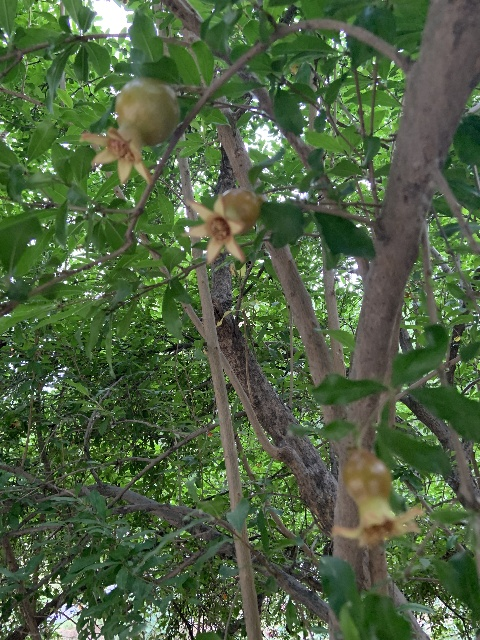early-fruit: (332, 449, 424, 548), (186, 189, 261, 264)
mid-growth: (80, 78, 179, 186)
